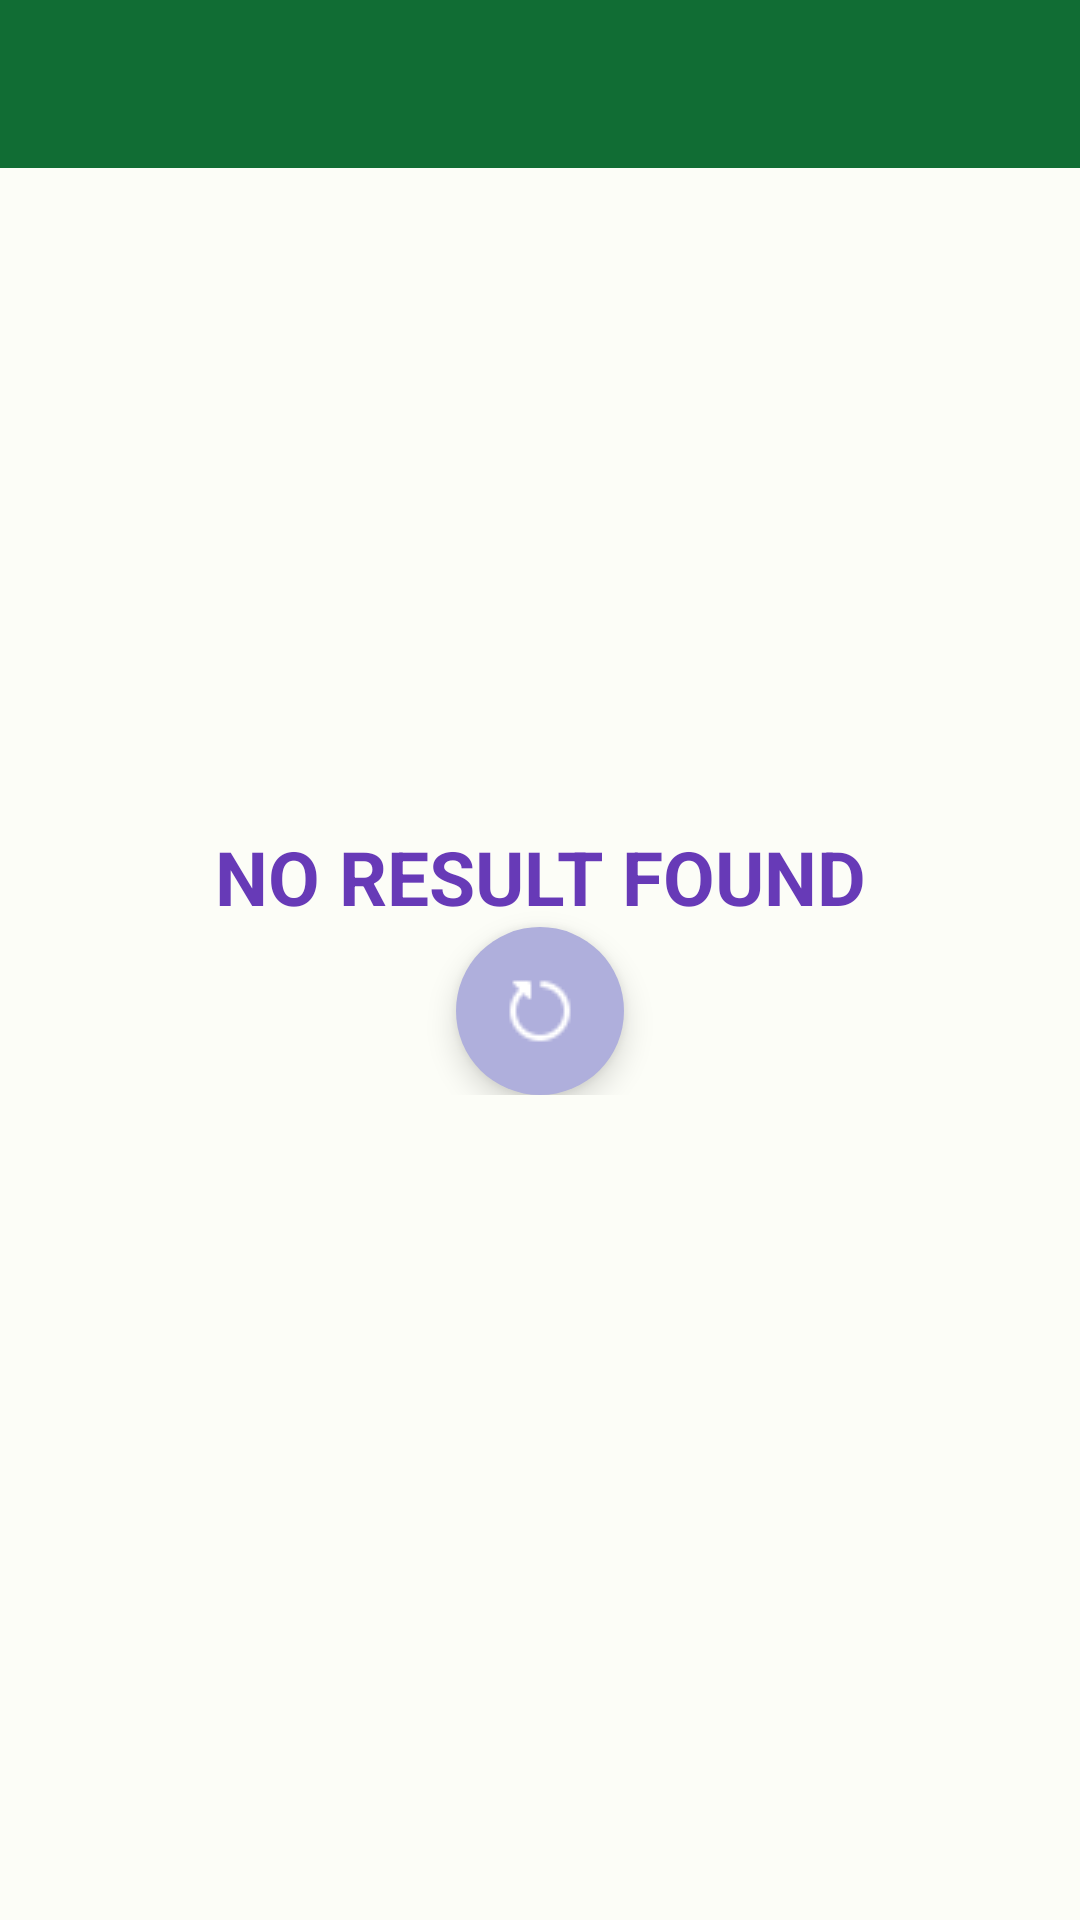

Screen size 1080 × 1920. Icon name, then its center in pixels as (x,y):
Retry: (540,1011)
